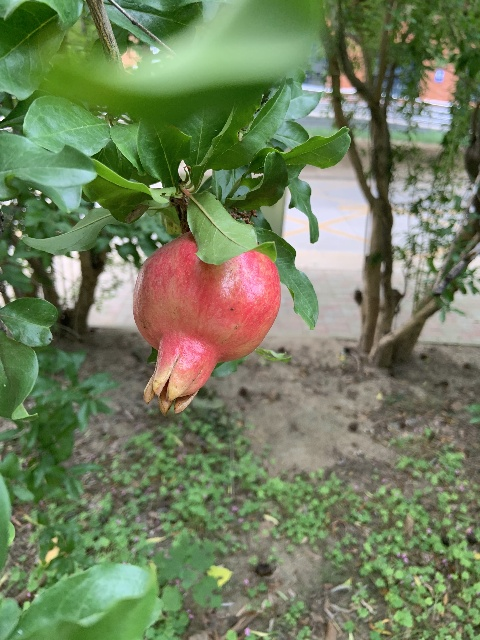ripe: (132, 230, 281, 416)
